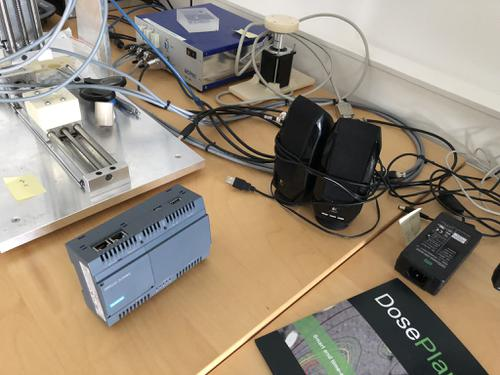device: (65, 184, 213, 328)
